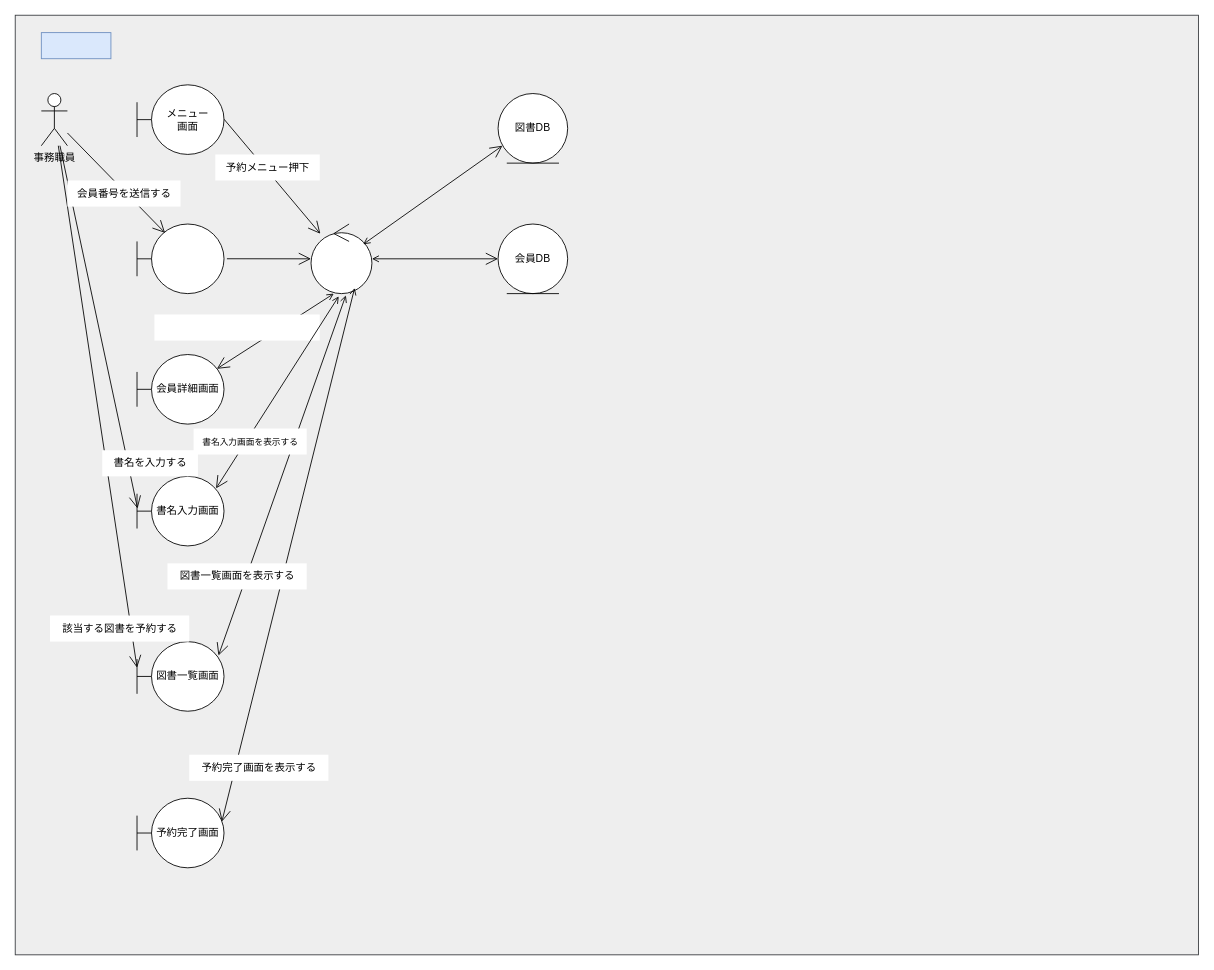
The diagram is 1214 pixels wide and 970 high, and some of its shapes have lost their labels. Here are the shapes that lost their labels. From the top down, the box of each, then its label:
(40, 32, 111, 59): 図書の予約
(136, 223, 224, 294): 図書予約 画面
(310, 223, 372, 294): 予約処理
(154, 314, 319, 340): 会員氏名、会員種別を表示する
